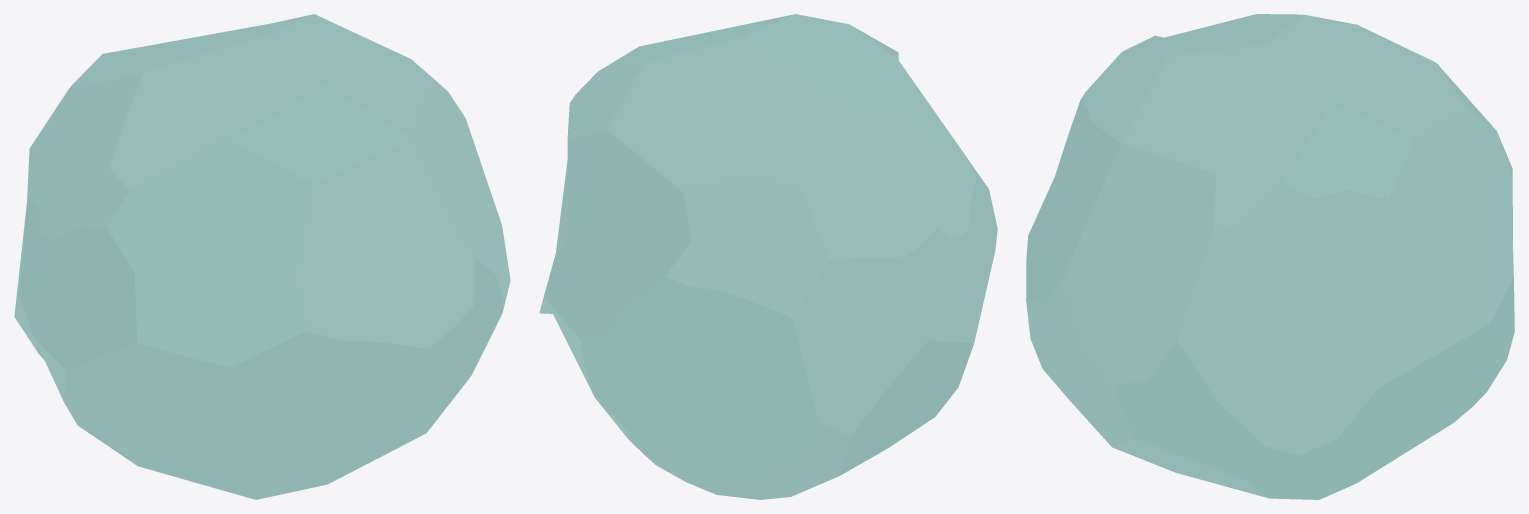
The model's file is stone.glb.
3 views of the same model, side by side, from view 1: azimuth 30°, elevation 25°; view 2: azimuth 150°, elevation 25°; view 3: azimuth 270°, elevation 25° (orthographic). The views are drawn at different scales.
Parts seen in each view (by area): view 1: Stone.001; view 2: Stone.001; view 3: Stone.001.
Boxes of the visible parts, <box> form: Stone.001: <box>14,14,510,499</box>; Stone.001: <box>539,14,997,499</box>; Stone.001: <box>1026,14,1514,499</box>.
Bounding box in the file's own units: 0.9707 × 0.967 × 0.9588.
